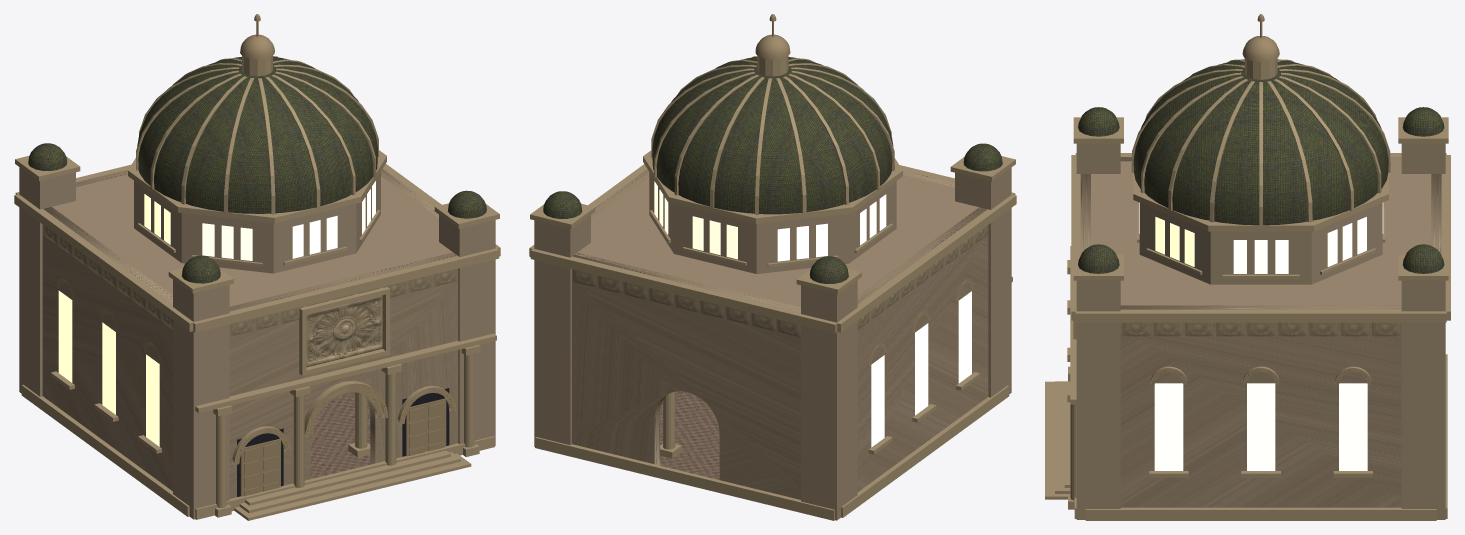
Rendered from moon-temple.glb.
The picture shows the model from 3 angles, left to right: view 1: azimuth 30°, elevation 25°; view 2: azimuth 150°, elevation 25°; view 3: azimuth 270°, elevation 25°; orthographic projection. The views are drawn at different scales.
Parts seen in each view (by area): view 1: temple_wall, temple_trim, temple_dome, temple_glass, temple_bronze, merged_temple_relief_temple-lunette, temple_floor, merged_temple_relief_temple-band, temple_shadow; view 2: temple_wall, temple_dome, temple_trim, temple_glass, merged_temple_relief_temple-band, temple_floor, temple_bronze; view 3: temple_wall, temple_dome, temple_trim, temple_glass, merged_temple_relief_temple-band, temple_bronze.
Boxes of the visible parts, bbox=[...] form: temple_wall: bbox=[19, 167, 495, 519]; temple_trim: bbox=[14, 56, 500, 520]; temple_dome: bbox=[28, 57, 486, 283]; temple_glass: bbox=[58, 181, 375, 446]; temple_bronze: bbox=[240, 14, 446, 496]; merged_temple_relief_temple-lunette: bbox=[306, 295, 382, 367]; temple_floor: bbox=[310, 392, 370, 478]; merged_temple_relief_temple-band: bbox=[43, 225, 456, 336]; temple_shadow: bbox=[237, 388, 449, 496]; temple_wall: bbox=[534, 167, 1011, 520]; temple_dome: bbox=[543, 57, 1002, 283]; temple_trim: bbox=[529, 55, 1016, 520]; temple_glass: bbox=[654, 181, 971, 447]; merged_temple_relief_temple-band: bbox=[573, 225, 987, 337]; temple_floor: bbox=[660, 391, 719, 479]; temple_bronze: bbox=[755, 14, 790, 59]; temple_wall: bbox=[1076, 143, 1445, 519]; temple_dome: bbox=[1078, 59, 1444, 273]; temple_trim: bbox=[1045, 58, 1450, 520]; temple_glass: bbox=[1139, 202, 1383, 470]; merged_temple_relief_temple-band: bbox=[1122, 322, 1399, 336]; temple_bronze: bbox=[1242, 14, 1279, 62].
Size of the model in its own units: 17.3 by 21.54 by 18.5.
Materials: 9 (6 with a texture image).
